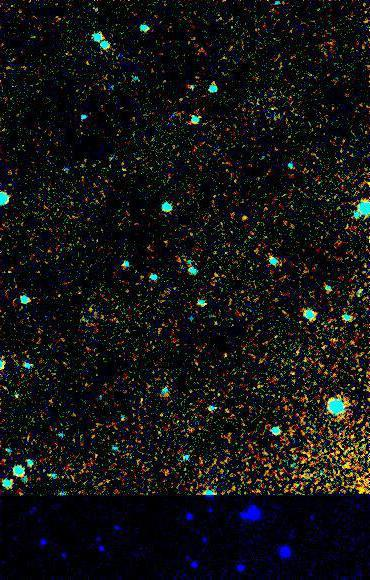star: (232, 204, 262, 234)
